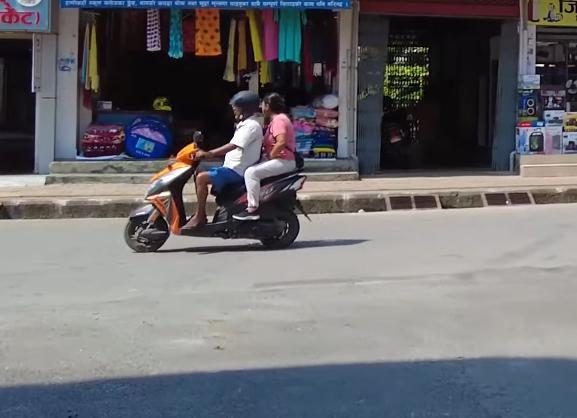scooter: (121, 126, 314, 265)
